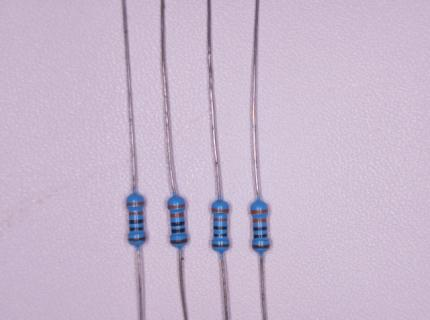Black band: (172, 228, 186, 233), (171, 221, 184, 226), (129, 220, 144, 224), (130, 227, 144, 231), (253, 227, 266, 231), (254, 235, 267, 239), (213, 226, 227, 229), (214, 234, 227, 237)
Brown band: (171, 238, 187, 244), (129, 237, 146, 242), (253, 244, 270, 249), (212, 244, 229, 247)
Orange band: (251, 209, 268, 214), (168, 204, 184, 209), (129, 211, 143, 216), (171, 212, 185, 217), (252, 218, 266, 223), (127, 202, 144, 206), (212, 208, 228, 212), (213, 218, 227, 221)
